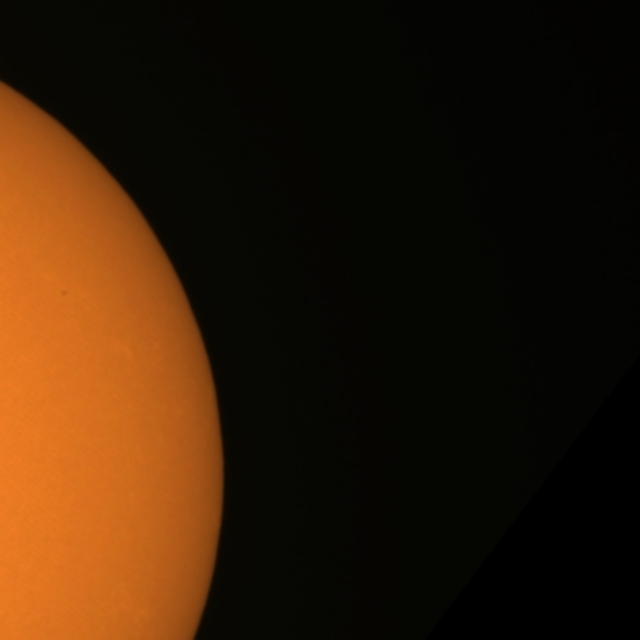sunspot: (59, 288, 69, 298)
